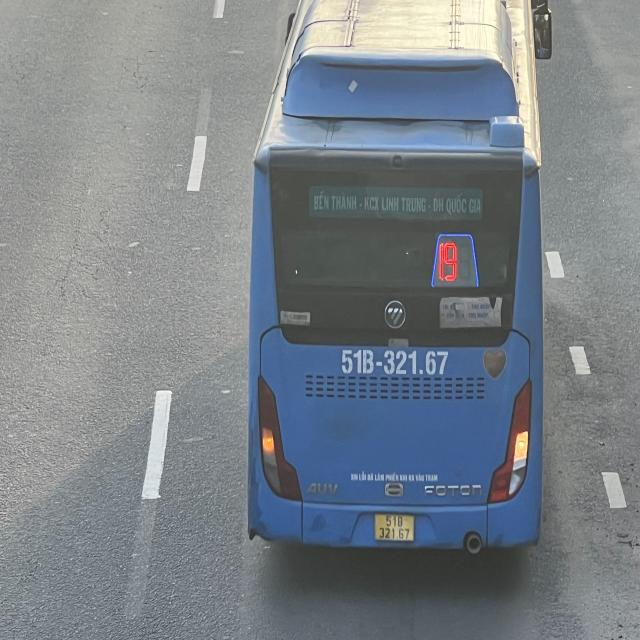coach: (248, 0, 546, 549)
